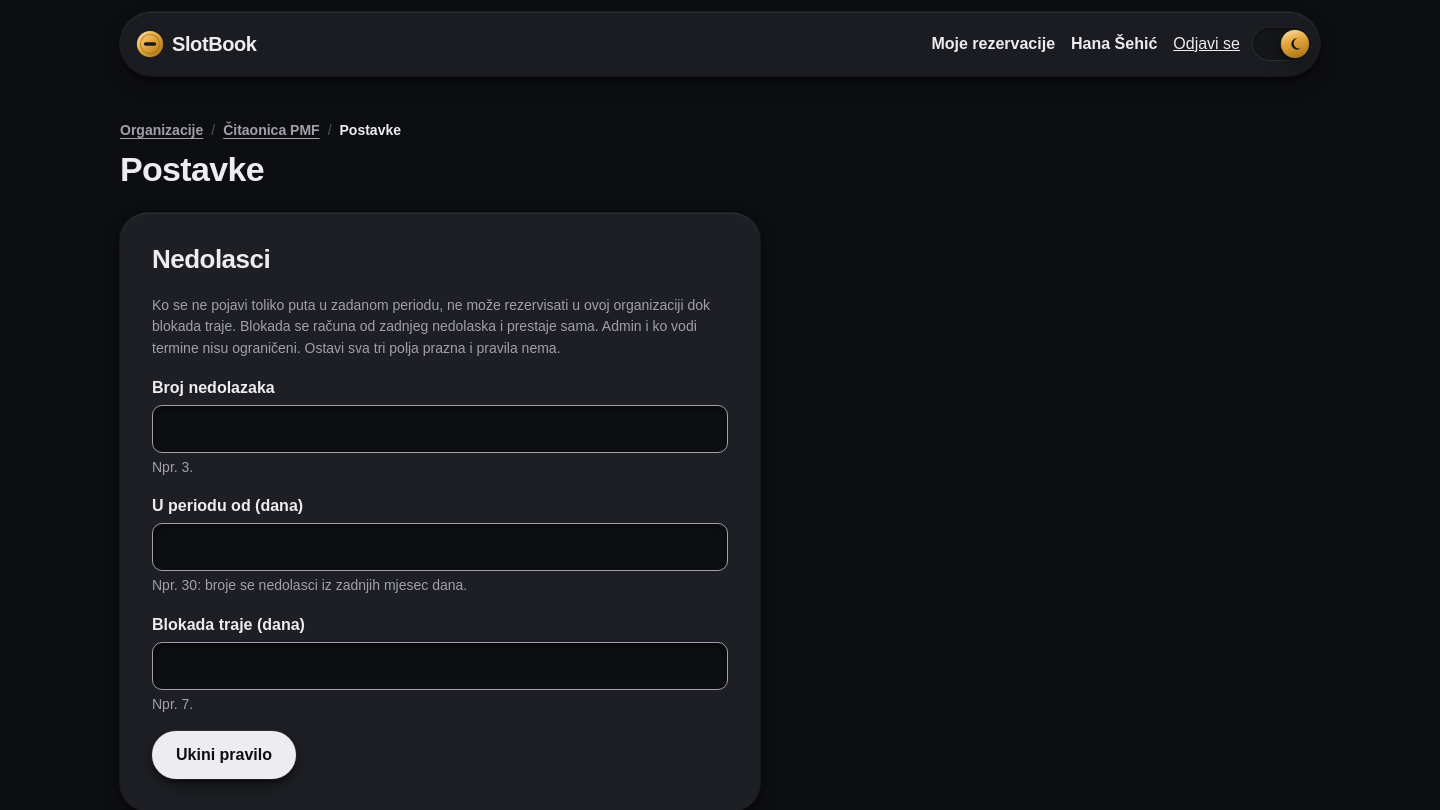
it: pola pravila vrati 400, a poruka stoji ispod prvog polja
Type "2" into the number field labelled "Broj nedolazaka" at point(440, 428), box top-left (152, 404), bottom-right (728, 452)
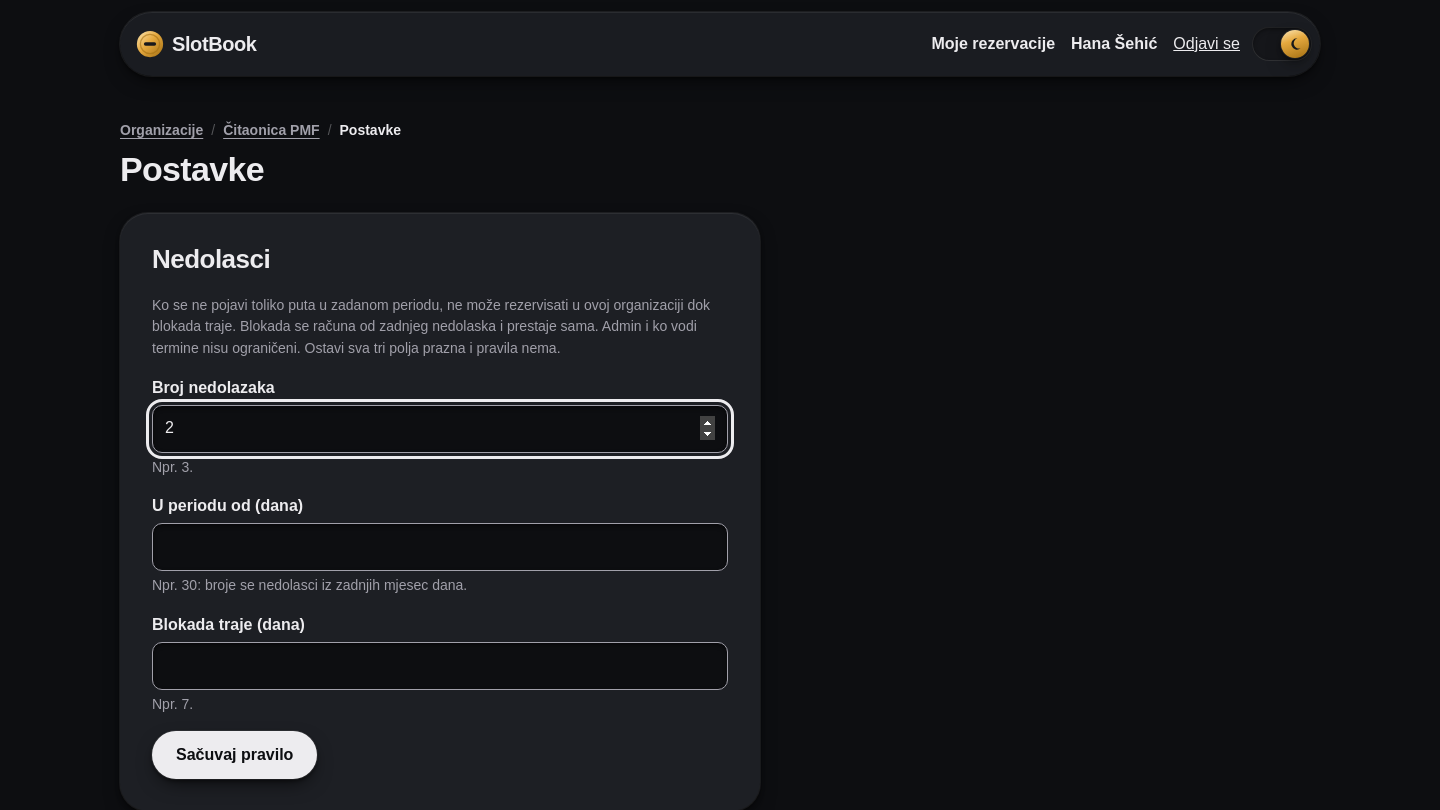
Click the button "Sačuvaj pravilo" at point(235, 755), box top-left (152, 731), bottom-right (317, 779)
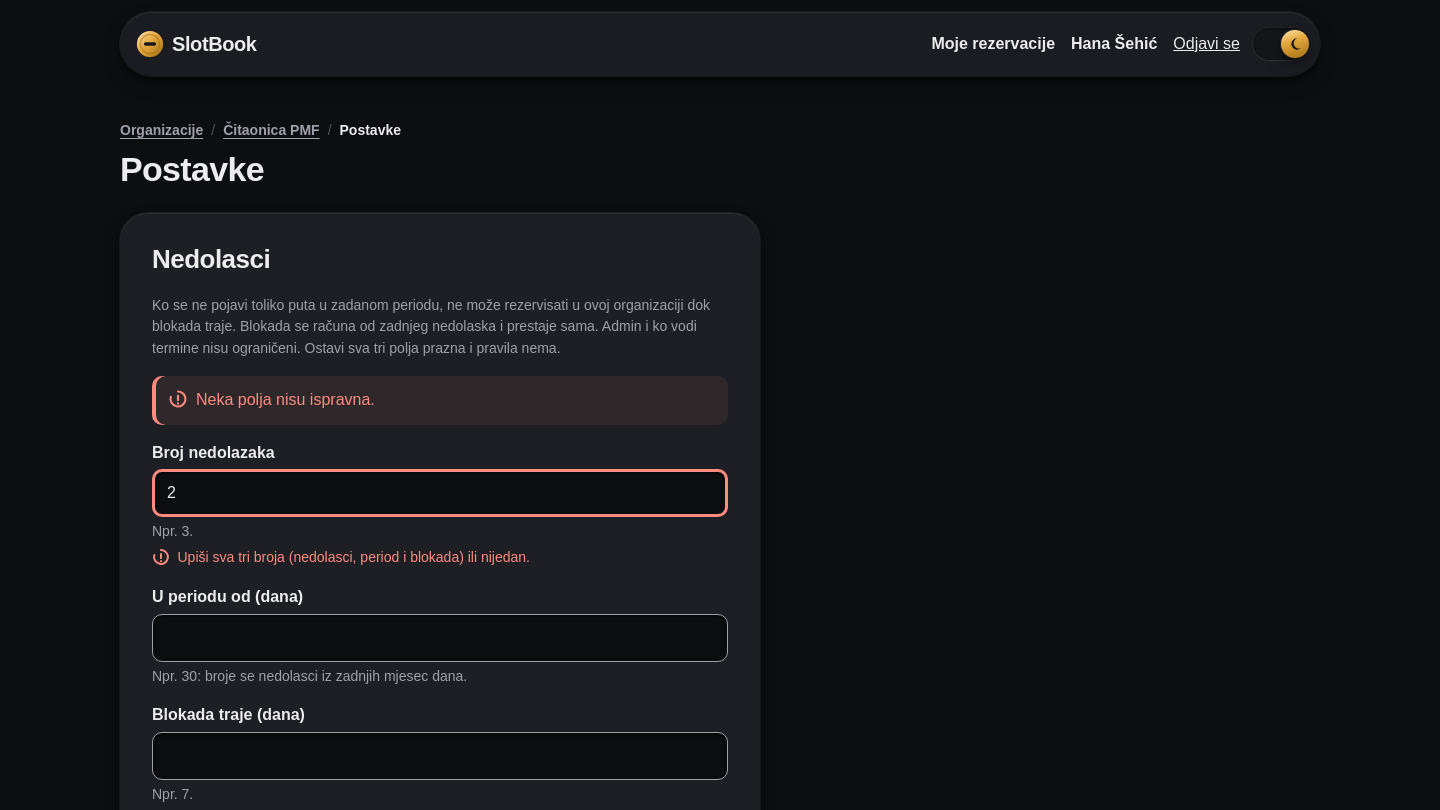
Expected: the text "Upiši sva tri broja (nedolasci, period i blokada) ili nijedan." is shown, top-left (178, 549), bottom-right (530, 565)
